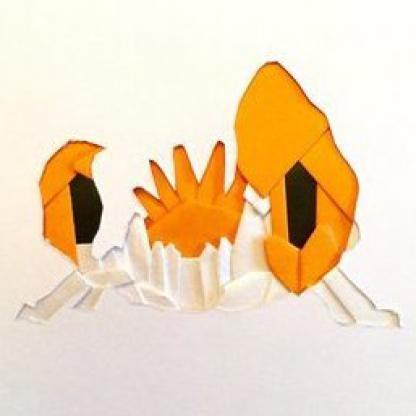Kingler: (14, 58, 412, 350)
